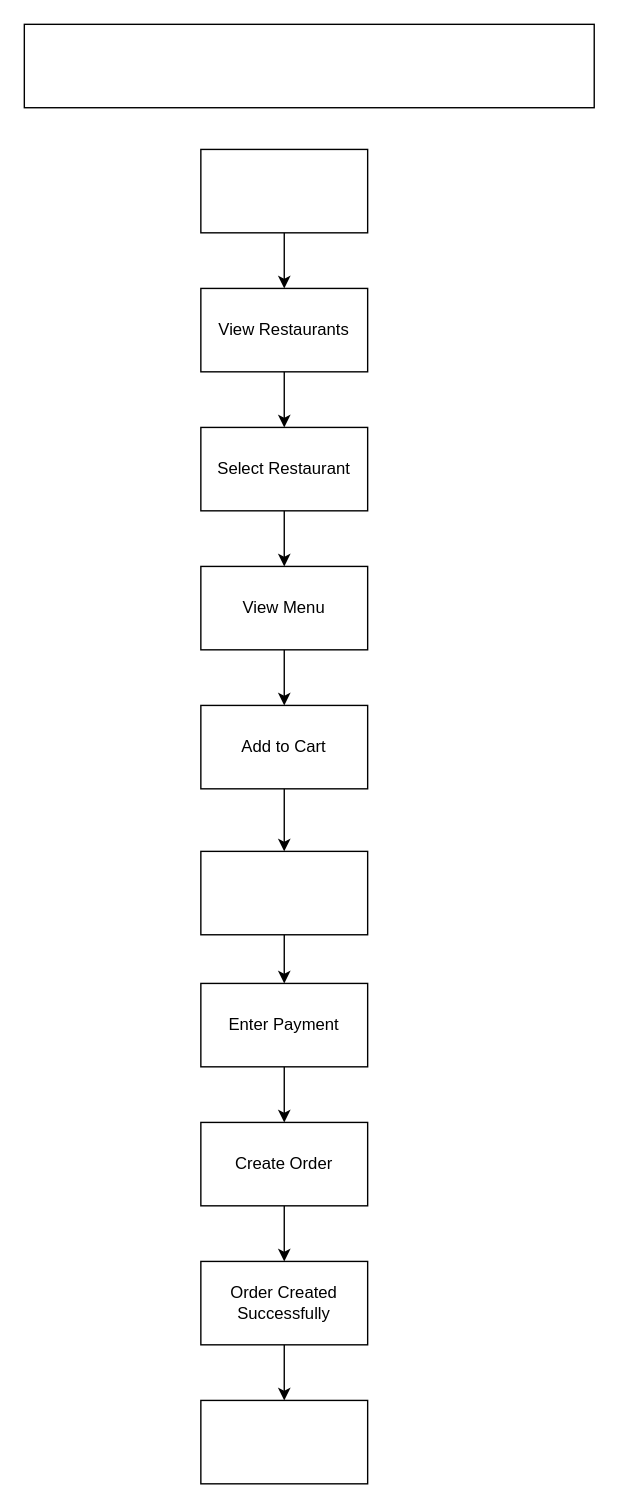
The diagram is 619 pixels wide and 1508 high, and some of its shapes have lost their labels. The centre of each missing label's shape, as x and y in pixels:
"End" belongs at [283,1441].
"Food Ordering System Activity Diagram" belongs at [308,65].
"Start" belongs at [283,190].
"View Cart" belongs at [283,892].
